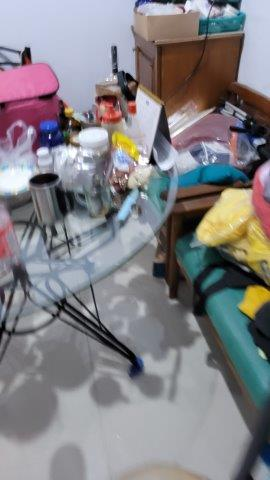kertas: (143, 137, 181, 171)
